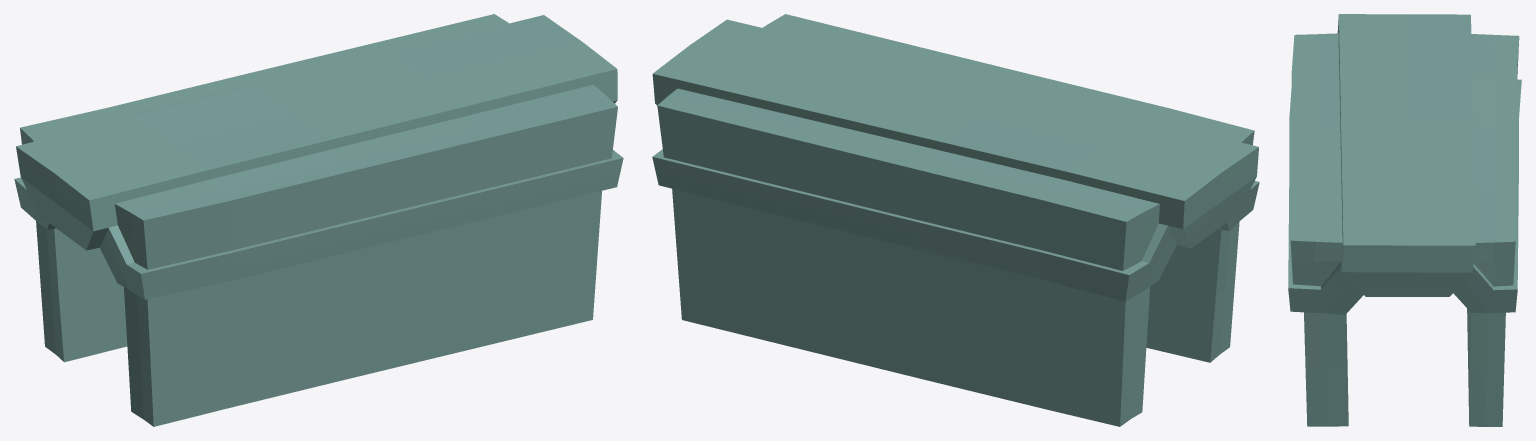
Rendered from bridge.fbx.
3 renders of one model, left to right at view 1: azimuth 30°, elevation 25°; view 2: azimuth 150°, elevation 25°; view 3: azimuth 270°, elevation 25°, orthographic. The views are drawn at different scales.
Parts seen in each view (by area): view 1: bridge; view 2: bridge; view 3: bridge.
Part boxes in pixels (<box>): bridge: <box>14,14,623,426</box>; bridge: <box>652,14,1259,426</box>; bridge: <box>1288,14,1521,426</box>.
Bounding box in the file's own units: 6289 × 2553 × 2679.
